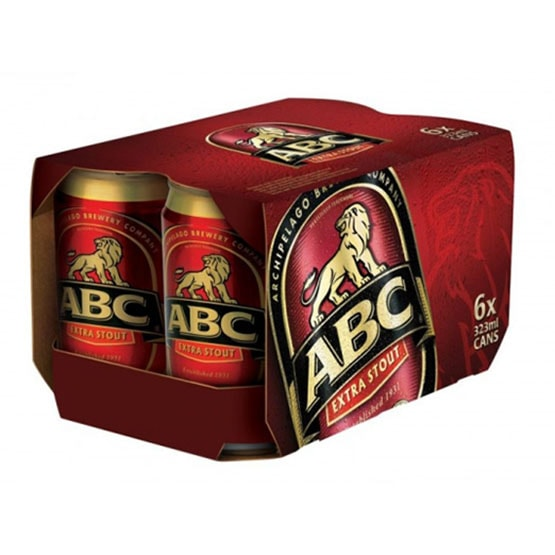beer can: (52, 161, 165, 377), (161, 166, 258, 396)
